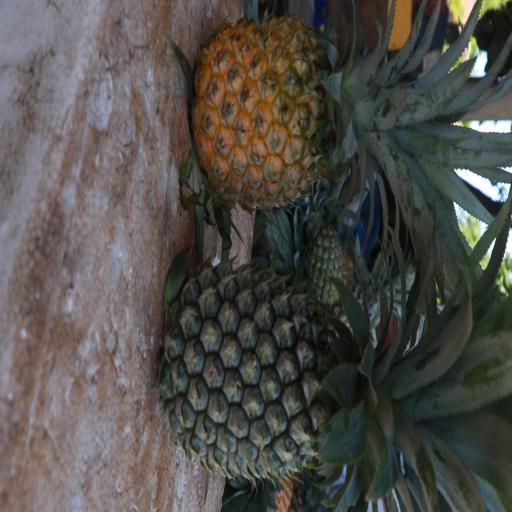Pineapple - v8 v1: (198, 22, 509, 208)
